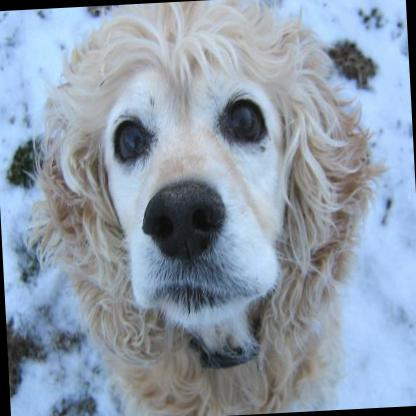cocker_spaniel: (29, 0, 382, 416)
